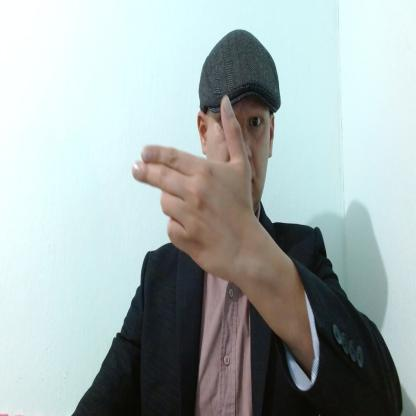H: (132, 95, 252, 276)
